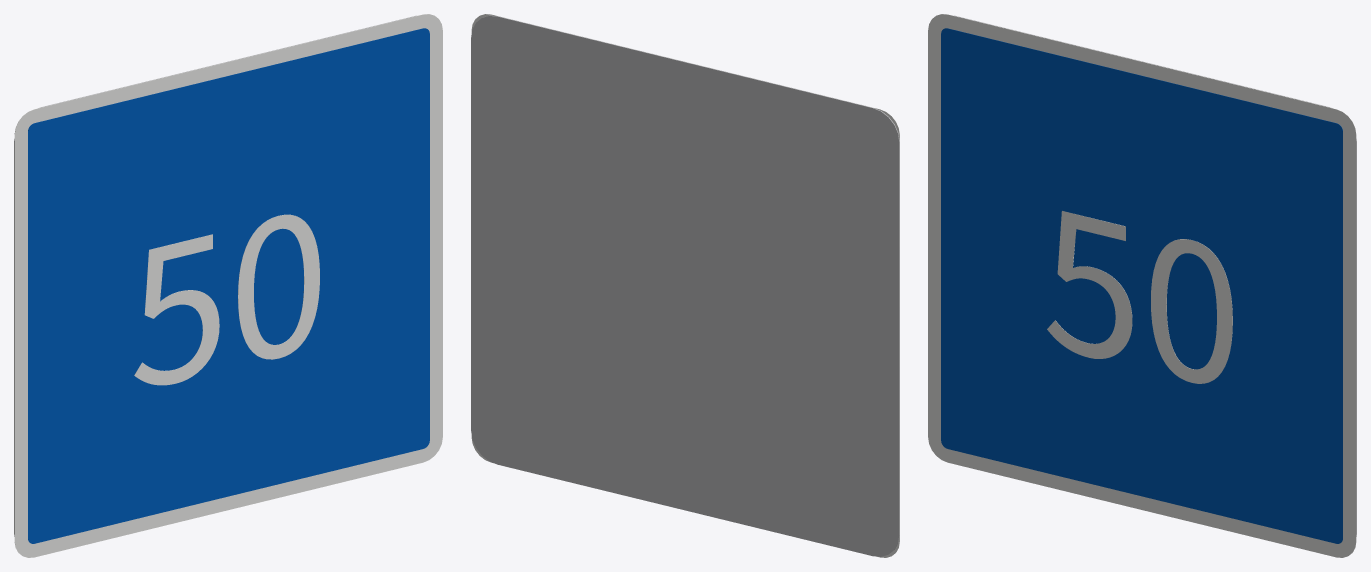
3 views of the same model, side by side, from view 1: azimuth 30°, elevation 25°; view 2: azimuth 150°, elevation 25°; view 3: azimuth 330°, elevation 25° (orthographic).
Parts seen in each view (by area): view 1: XC4a_r01, XC4a_r00, XC4a_txt02, XC4a_dos; view 2: XC4a_dos, XC4a_r00; view 3: XC4a_r01, XC4a_r00, XC4a_txt02, XC4a_dos.
Part boxes in pixels (box(x1,y1,x2,y2)): XC4a_r01: box(28, 28, 429, 543); XC4a_r00: box(14, 14, 442, 557); XC4a_txt02: box(134, 214, 319, 385); XC4a_dos: box(14, 15, 416, 536); XC4a_dos: box(471, 15, 899, 556); XC4a_r00: box(471, 14, 899, 557); XC4a_r01: box(941, 28, 1342, 543); XC4a_r00: box(928, 14, 1356, 557); XC4a_txt02: box(1047, 211, 1232, 383); XC4a_dos: box(954, 15, 1356, 536).
Bounding box in the file's own units: 0.65 × 0.65 × 0.0025.
